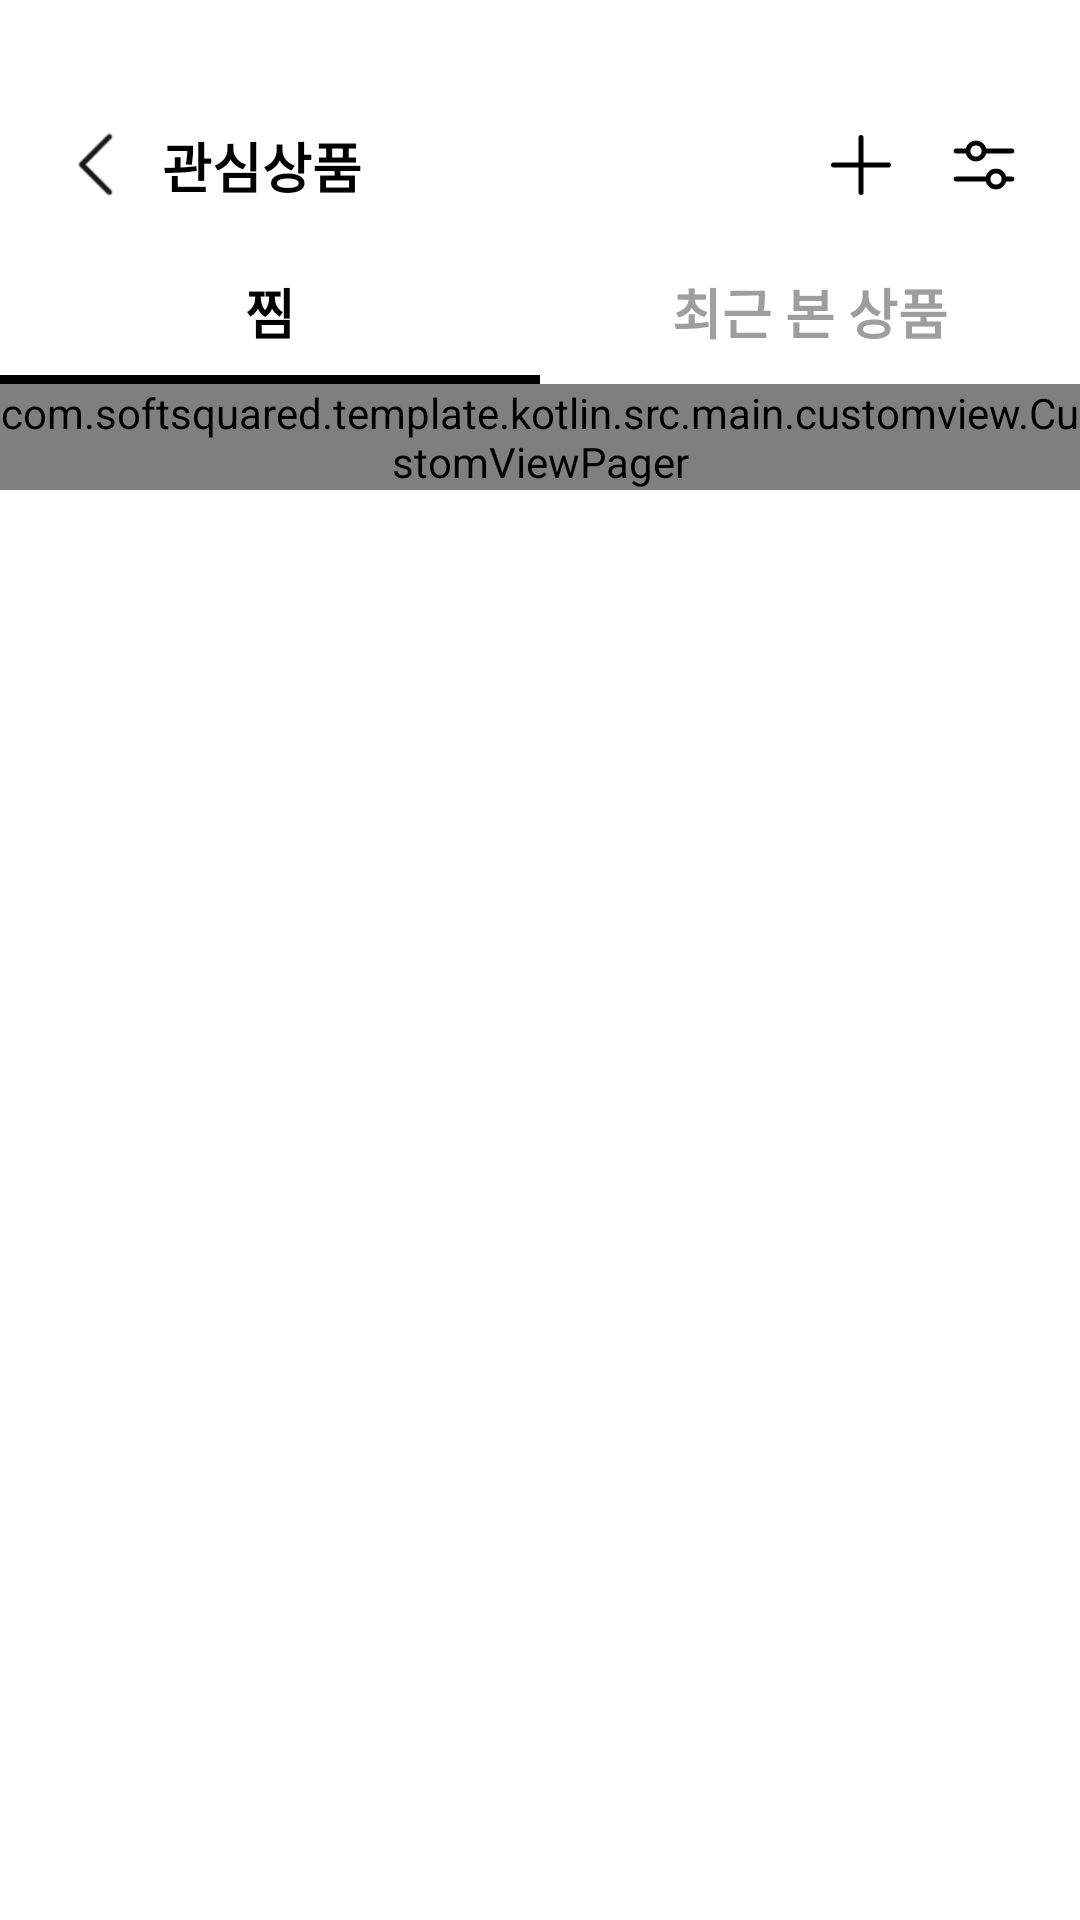

Named icons in this screenshot (1080 x 1920) and their bounding boxes, (x1, y1, x2, y2):
add: (831, 135, 891, 195)
filter: (953, 140, 1015, 190)
left arrow: (78, 133, 113, 196)
